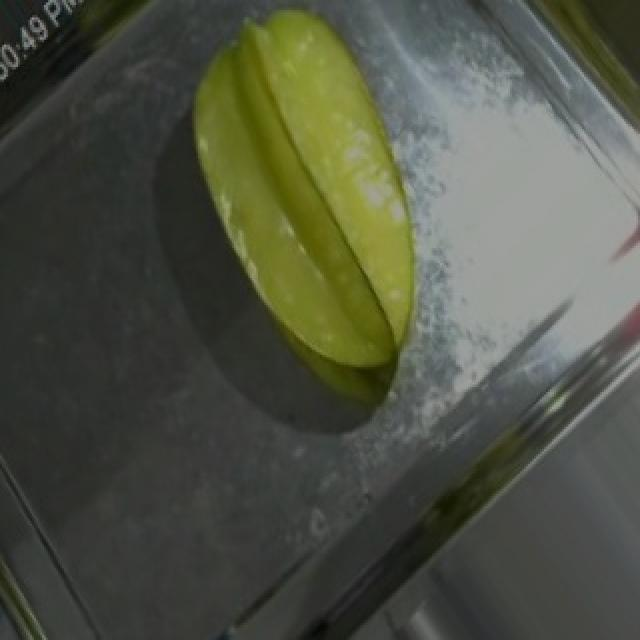fruit: (126, 2, 490, 402)
